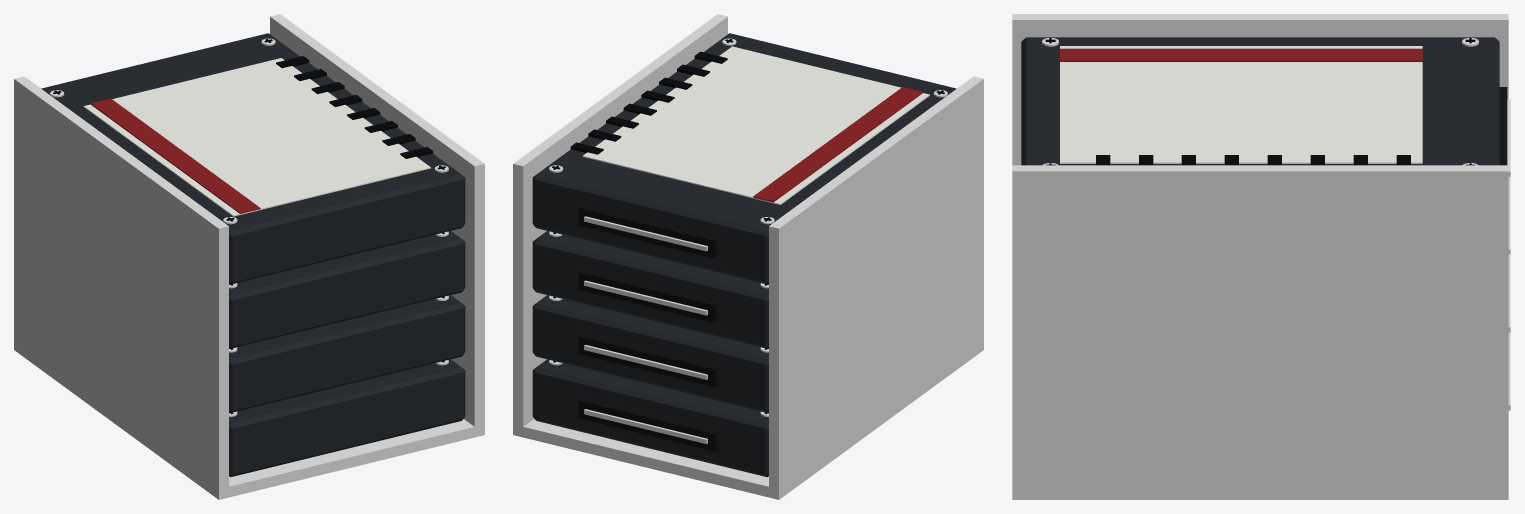
The model's file is hw_sto_nvme4_24tb.glb.
The picture shows the model from 3 angles, left to right: view 1: azimuth 30°, elevation 25°; view 2: azimuth 150°, elevation 25°; view 3: azimuth 270°, elevation 25°; orthographic projection. The views are drawn at different scales.
Parts seen in each view (by area): view 1: Body; view 2: Body; view 3: Body.
Part boxes in pixels (x1,y1,x2,y2): Body: [14, 14, 484, 499]; Body: [513, 14, 983, 499]; Body: [1012, 14, 1510, 499].
Bounding box in the file's own units: 0.078 × 0.076 × 0.1044.
